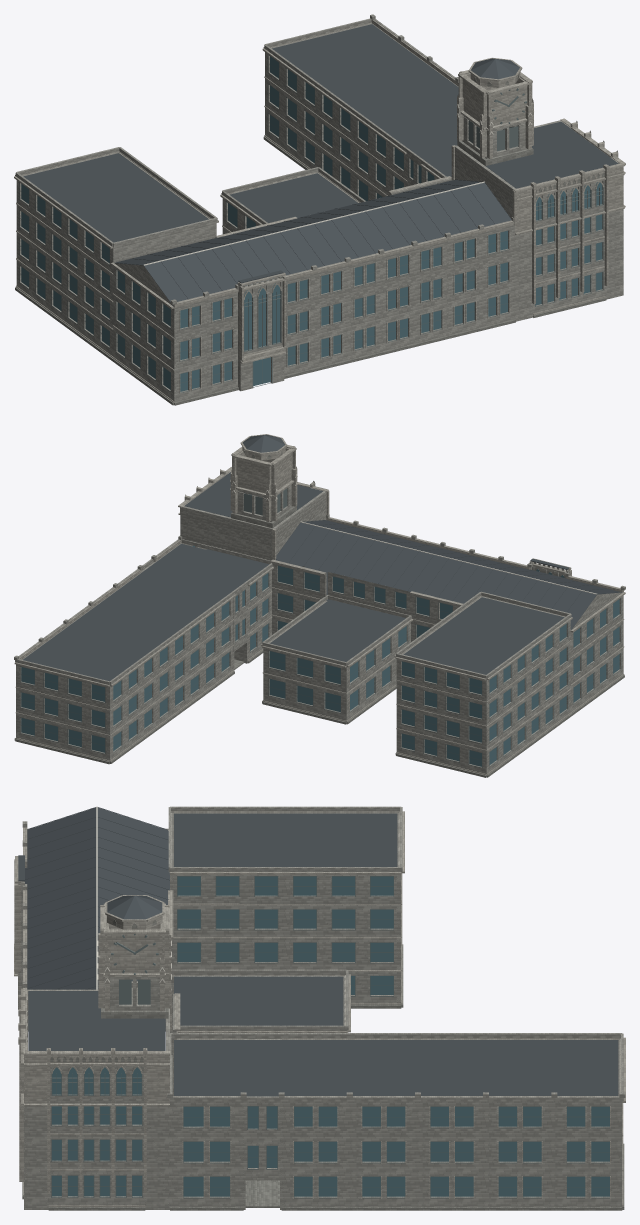
3 renders of one model, top to bottom at view 1: azimuth 30°, elevation 25°; view 2: azimuth 150°, elevation 25°; view 3: azimuth 270°, elevation 25°, orthographic. The views are drawn at different scales.
Parts seen in each view (by area): view 1: westHall__stone, westHall__roof, westHall__cream, westHall__glass, westHall__frame, westHall__rough, westHall__light; view 2: westHall__stone, westHall__roof, westHall__glass, westHall__cream, westHall__frame, westHall__rough, westHall__light; view 3: westHall__stone, westHall__roof, westHall__glass, westHall__cream, westHall__frame, westHall__rough.
Part boxes in pixels (box(x1,y1,x2,y2)): westHall__stone: box(15, 14, 623, 402); westHall__roof: box(23, 24, 618, 306); westHall__cream: box(14, 19, 625, 402); westHall__glass: box(21, 56, 602, 391); westHall__frame: box(19, 55, 603, 393); westHall__rough: box(15, 75, 606, 405); westHall__light: box(144, 104, 534, 265); westHall__stone: box(14, 484, 625, 773); westHall__roof: box(23, 434, 622, 681); westHall__glass: box(21, 545, 619, 766); westHall__cream: box(14, 434, 625, 774); westHall__frame: box(20, 488, 621, 767); westHall__rough: box(14, 449, 624, 777); westHall__light: box(230, 474, 596, 594); westHall__stone: box(18, 806, 625, 1209); westHall__roof: box(18, 807, 618, 1096); westHall__glass: box(52, 876, 609, 1196); westHall__cream: box(14, 811, 625, 1206); westHall__frame: box(51, 876, 609, 1198); westHall__rough: box(22, 920, 624, 1210).
Size of the model in its own units: 66.54 by 31.05 by 64.62.
Materials: 7 (3 with a texture image).
